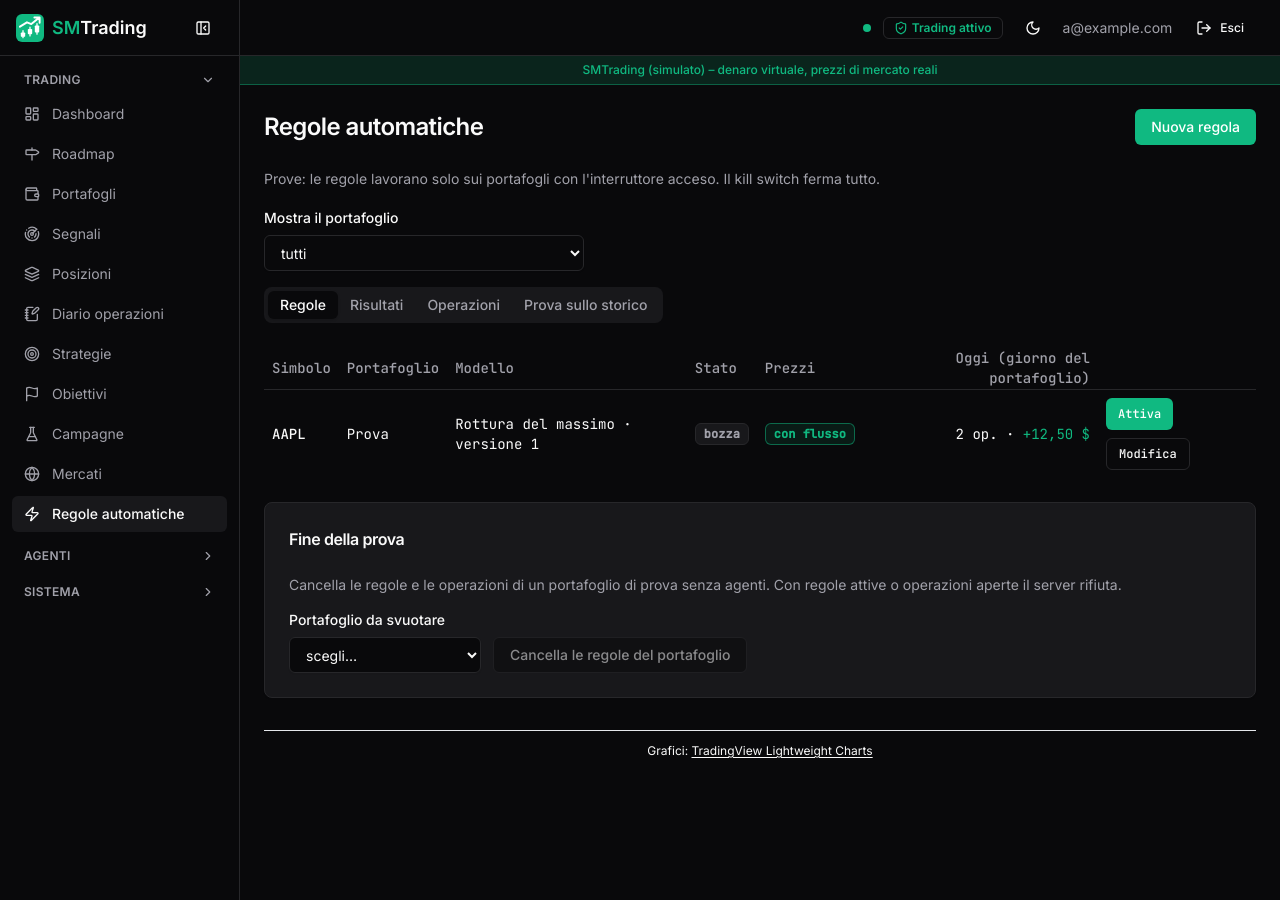
Test: AutoRules › replays on history and shows the minute-limit note as the server gave it, and that the list is cut
Click the tab "Prova sullo storico". click: click(586, 305)
box: [512, 291, 660, 319]
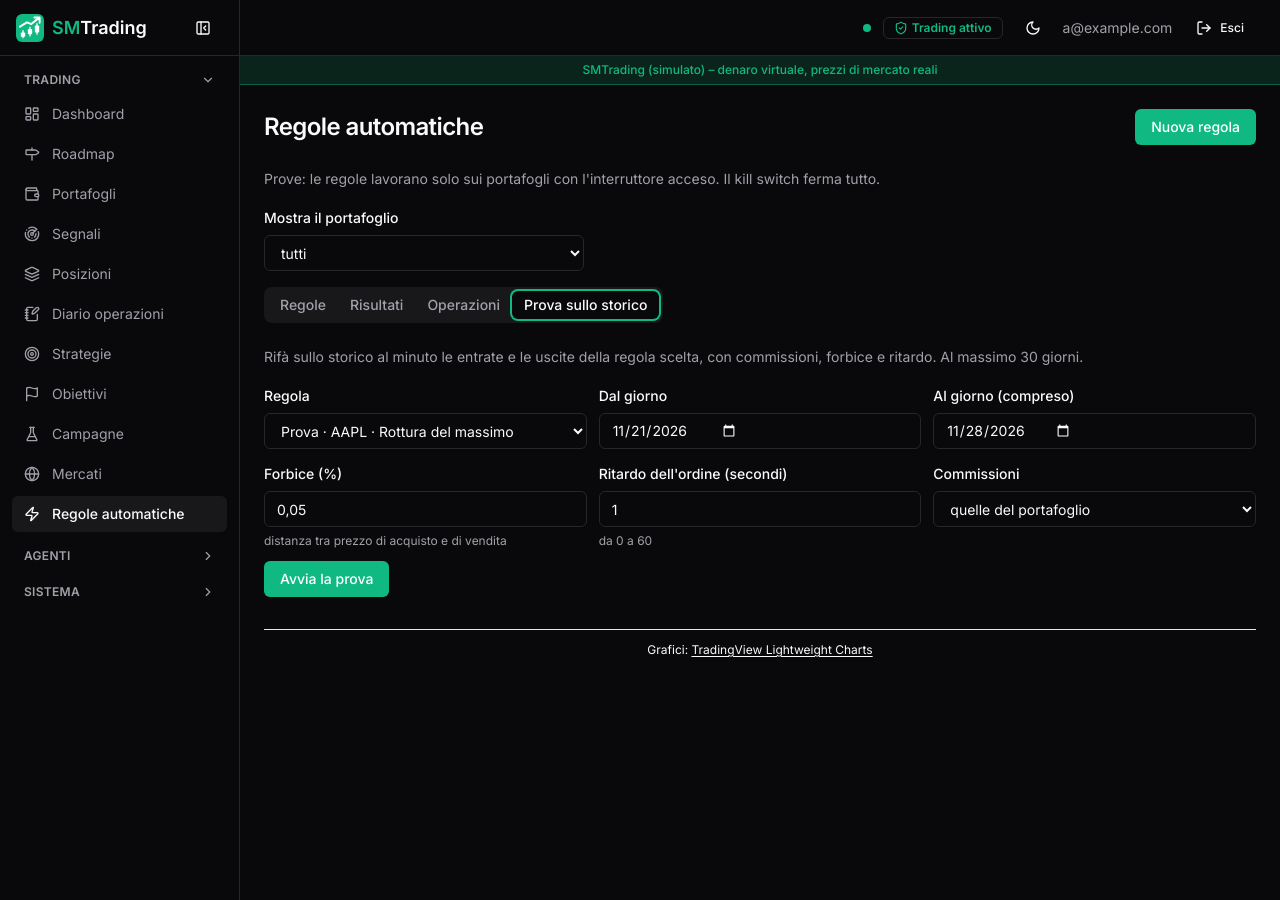
Click the button "Avvia la prova". click: click(327, 579)
box: [264, 561, 389, 597]
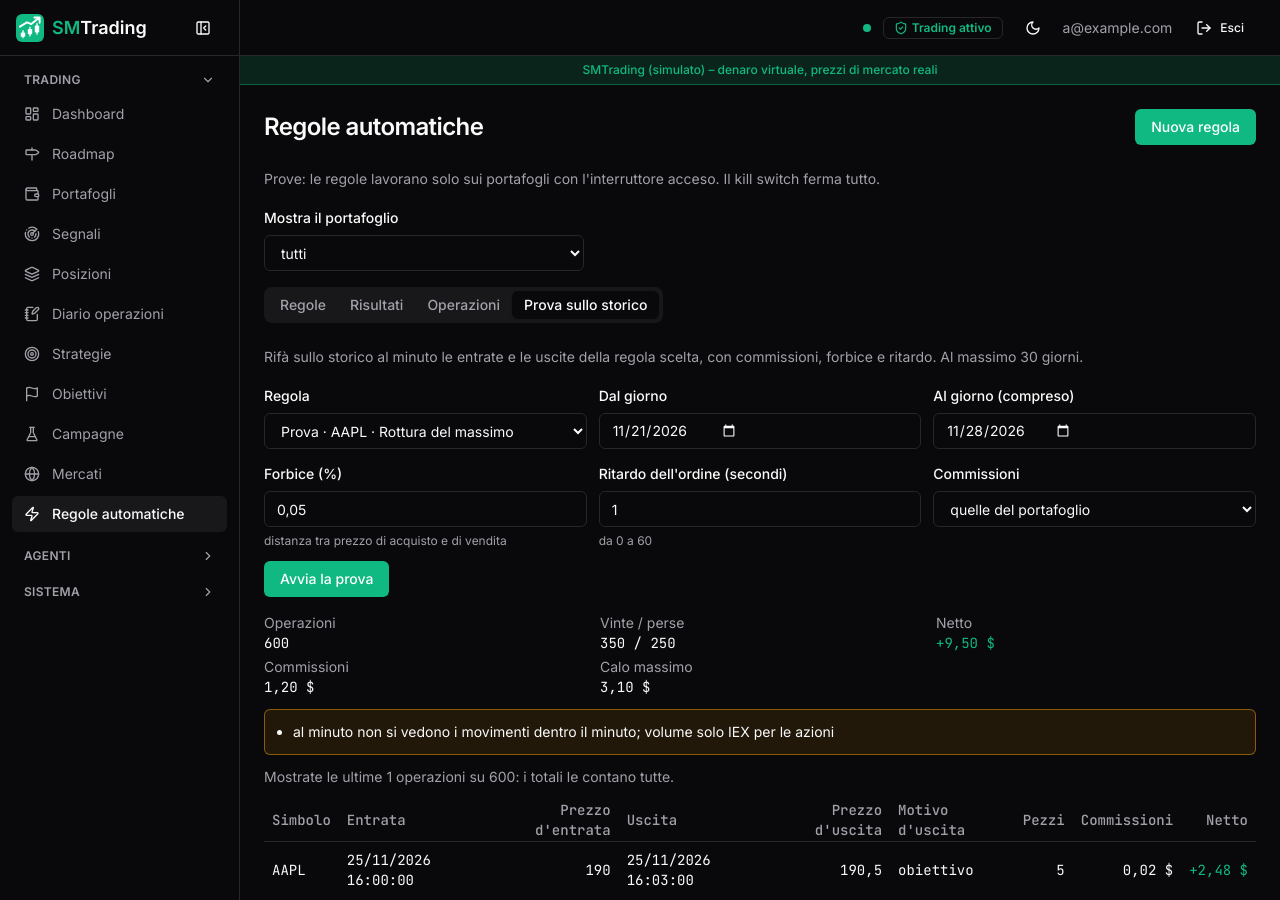
Check: the list item "al minuto non si vedono i movimenti dentro il minuto; volume solo IEX per le azioni" is shown, box [293, 723, 834, 740]
Check: the text "Mostrate le ultime 1 operazioni su 600" is shown, box [264, 768, 674, 785]
Check: the text "obiettivo" is shown, box [890, 842, 1015, 898]
